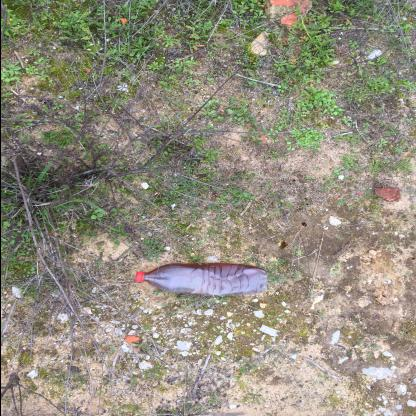plastik: (134, 262, 266, 296)
